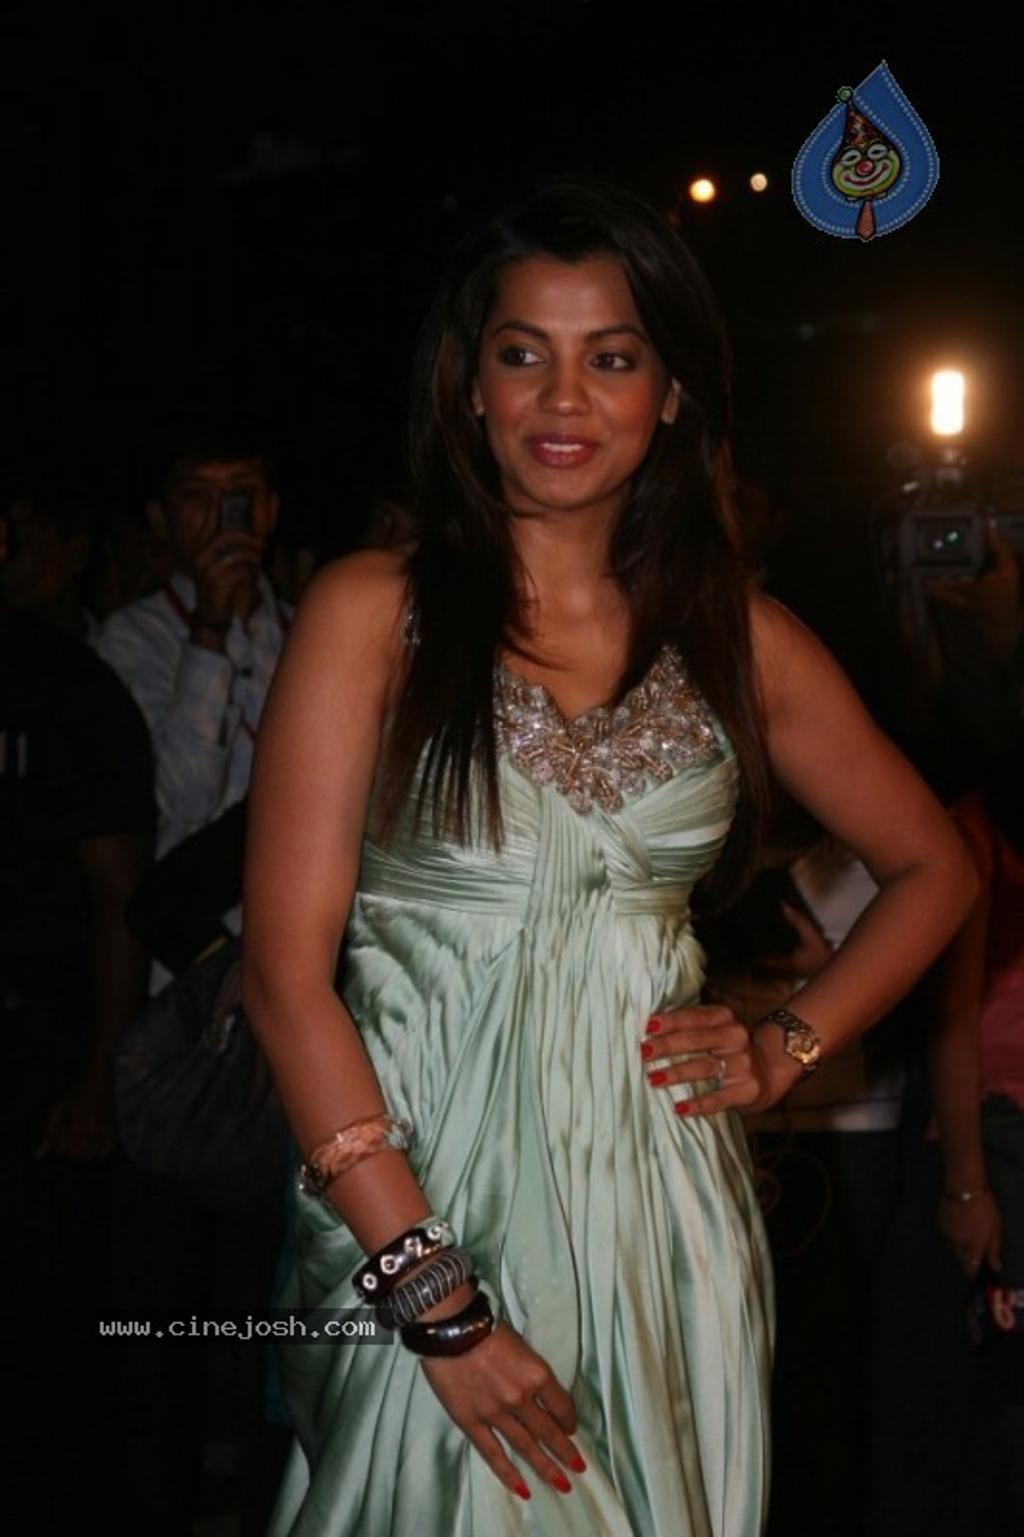face: (487, 262, 663, 498), (174, 456, 267, 573)
